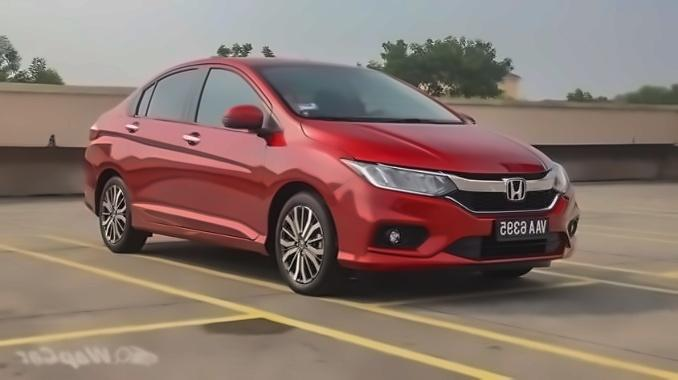Car hood: (296, 113, 557, 179)
Driver-s door - -F-R-: (174, 36, 270, 259)
Fender - -F-R-: (247, 106, 355, 238)
Fender - -R-R-: (94, 85, 137, 214)
Front bumper: (317, 172, 581, 275)
Headlight - -R-: (333, 156, 459, 196)
Passenger-s door - -R-R-: (118, 45, 211, 241)
Rear bumper: (78, 153, 103, 215)
Side bumper - -R-: (120, 203, 271, 261)
Side mirror - -R-: (216, 103, 273, 135)
